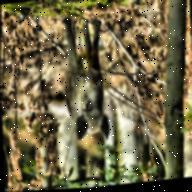boar: (48, 13, 126, 157)
